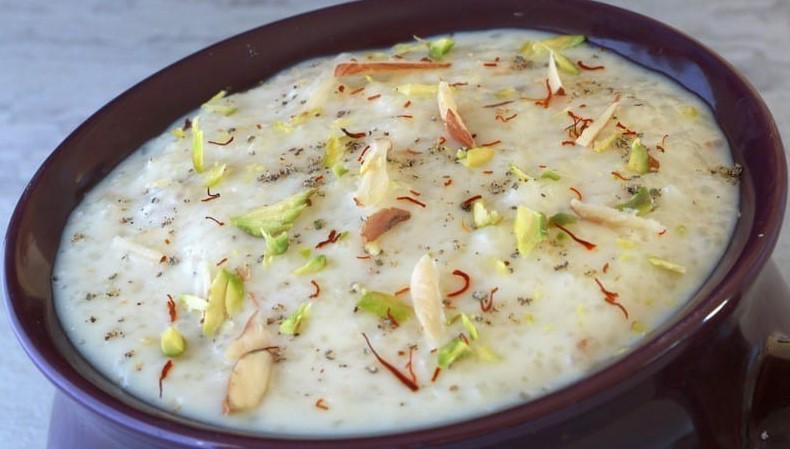Kheer: (52, 25, 736, 442)
